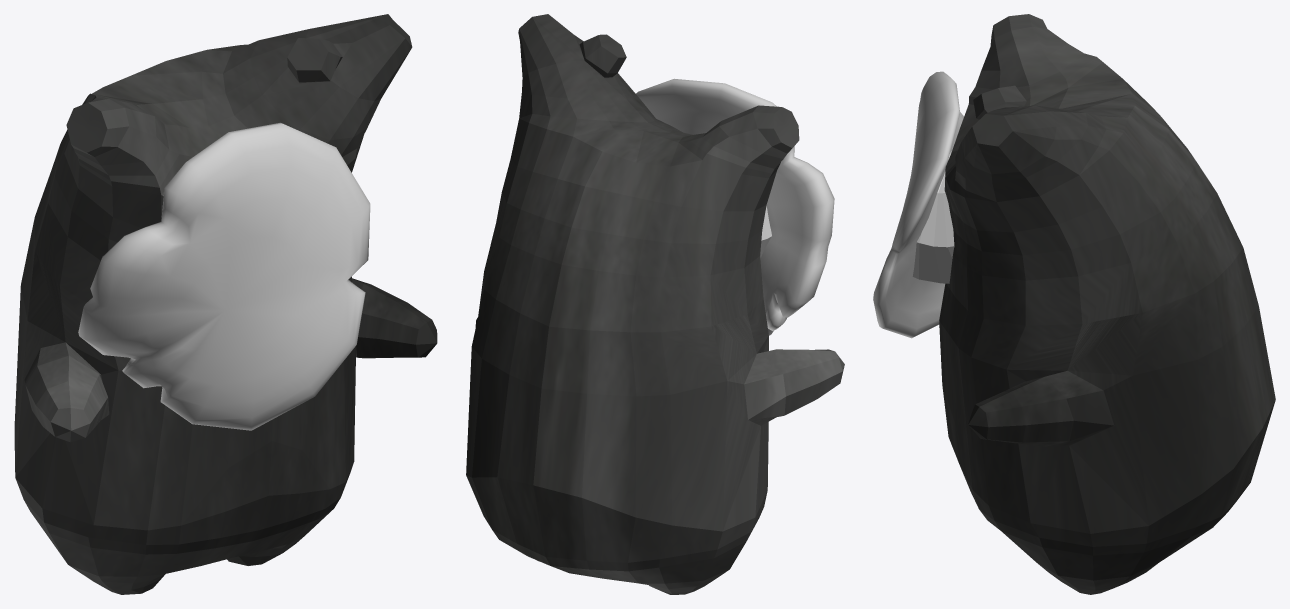
Rendered from frame_0006.obj.
3 renders of one model, left to right at view 1: azimuth 30°, elevation 25°; view 2: azimuth 150°, elevation 25°; view 3: azimuth 270°, elevation 25°, orthographic. The views are drawn at different scales.
Visible parts, largest first — view 1: korok, leaf; view 2: korok, leaf; view 3: korok, leaf, nose.
Part boxes in pixels (left/top/right/bottom): korok: left=14, top=14, right=437, bottom=594; leaf: left=78, top=122, right=370, bottom=430; korok: left=466, top=14, right=844, bottom=594; leaf: left=636, top=78, right=834, bottom=335; korok: left=939, top=14, right=1275, bottom=594; leaf: left=873, top=71, right=963, bottom=338; nose: left=912, top=151, right=954, bottom=283.
Bounding box in the file's own units: 1.47 × 2.06 × 1.46.
